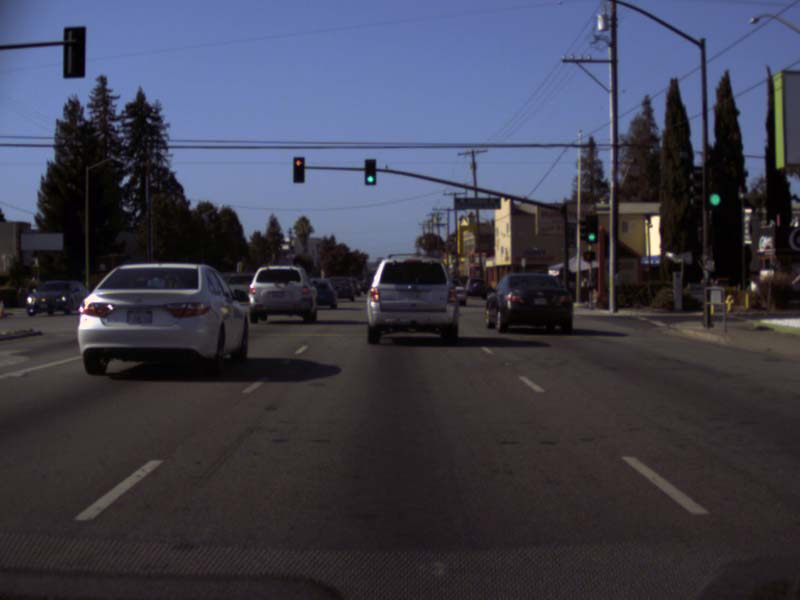Green: (708, 167, 721, 209), (585, 214, 598, 244), (363, 159, 376, 186)
Red: (293, 157, 304, 183)
